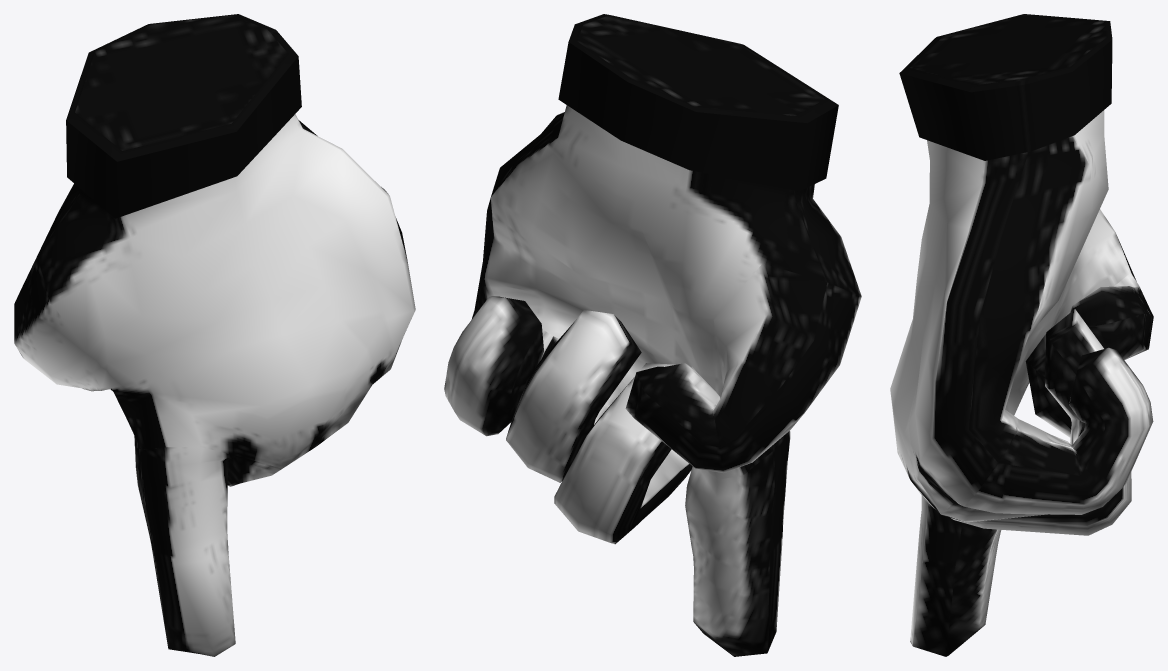
File: Hand.fbx
3 views of the same model, side by side, from view 1: azimuth 30°, elevation 25°; view 2: azimuth 150°, elevation 25°; view 3: azimuth 270°, elevation 25° (orthographic). The views are drawn at different scales.
Visible parts, largest first — view 1: Hand.003; view 2: Hand.003; view 3: Hand.003.
Boxes of the visible parts, x1,y1,x2,y2 form: Hand.003: [14, 14, 415, 656]; Hand.003: [444, 14, 861, 656]; Hand.003: [890, 14, 1153, 656].
Size of the model in its own units: 0.8211 by 0.4817 by 1.28.
1 material, 1 textured.
